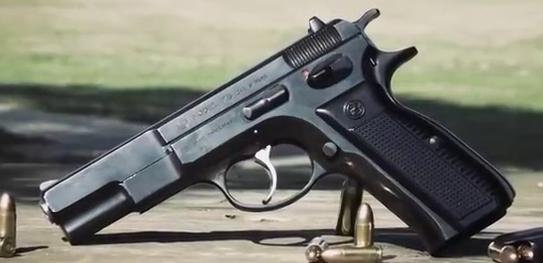gun: (1, 1, 543, 263)
